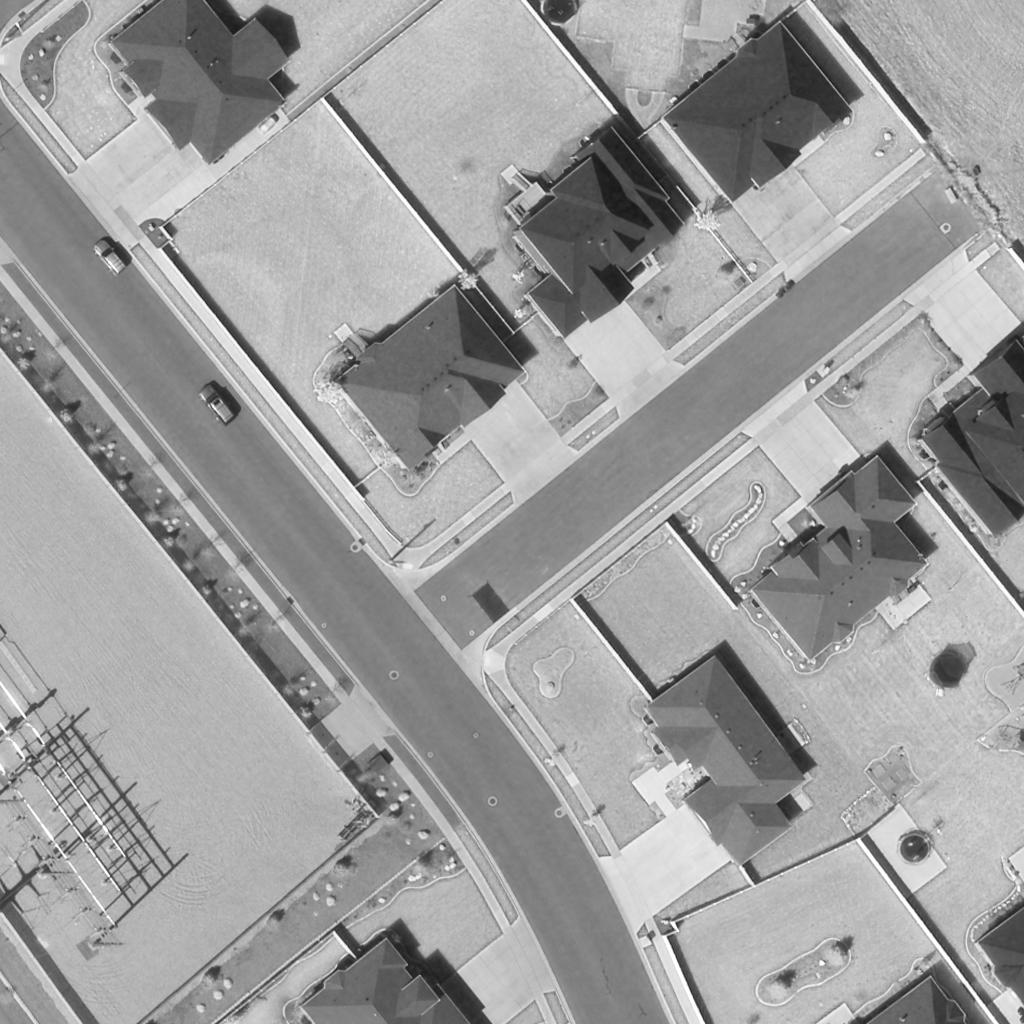vehicle: (195, 383, 237, 427), (88, 239, 128, 279)
